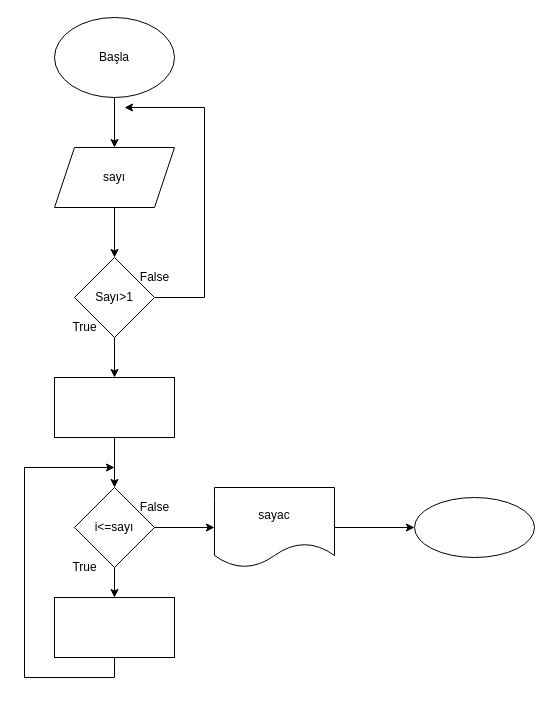
The diagram is 552 pixels wide and 703 high, and some of its shapes have lost their labels. Each missing label, with the centre of its shape:
Dur: the point at 474,527
sayac=1 i=1: the point at 114,407
sayac=sayac*i i=i+1: the point at 114,627
